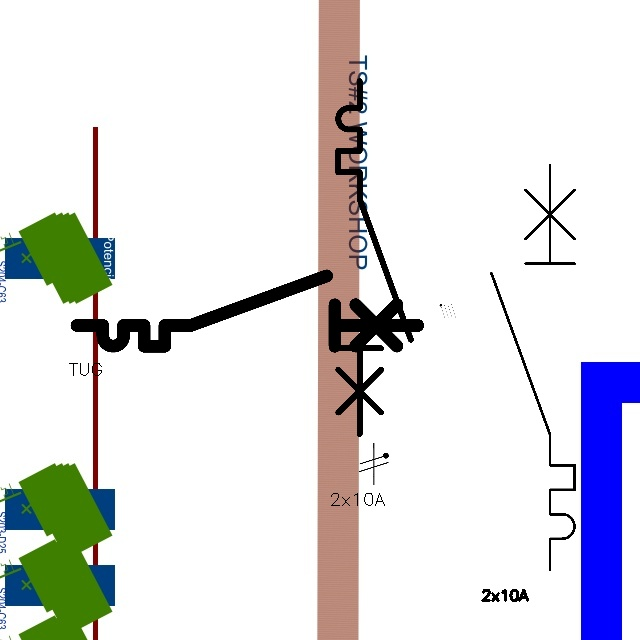interruptor_termomagnetico: (481, 155, 585, 580), (329, 72, 420, 443), (68, 267, 426, 355)
